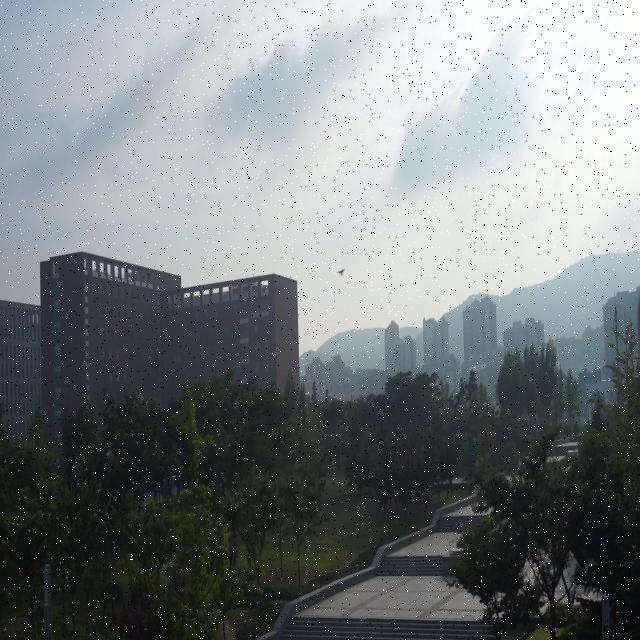UAV: (336, 268, 345, 277)
